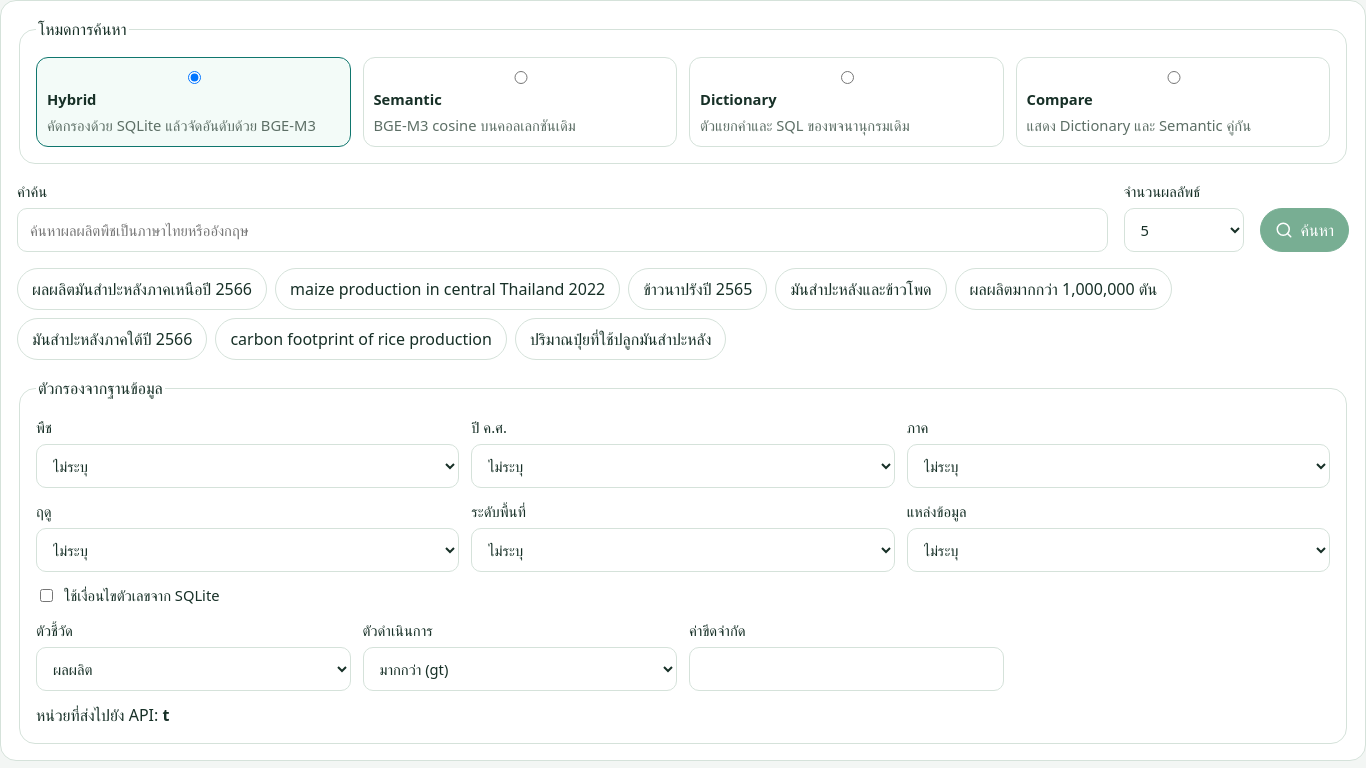
it: frontend › T12 warns for an unsupported measurement and shows no answer row
The width and height of the screenshot is (1366, 768).
In the field labelled "คำค้น": (562, 230) 17,208 -> 1108,252, type "ปุ๋ย"
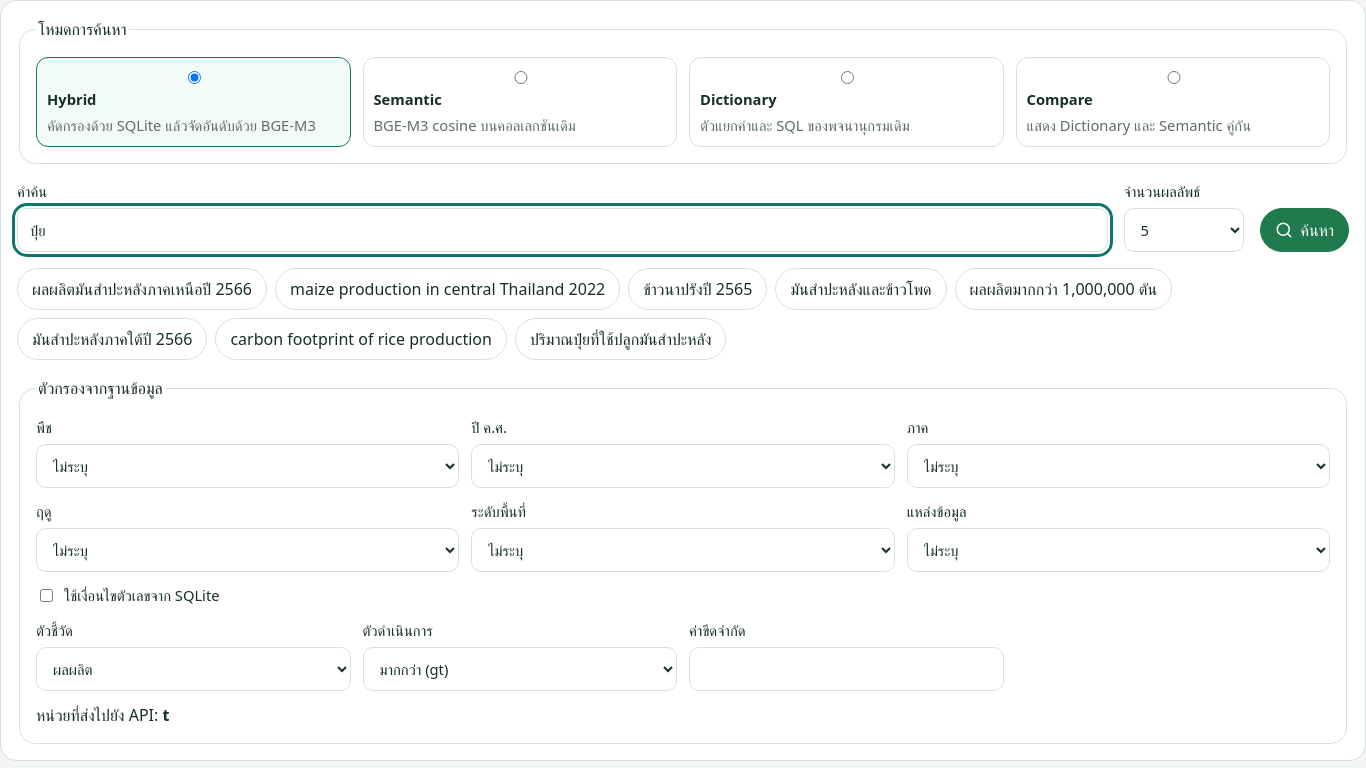
Click the button "ค้นหา": (1304, 230) 1260,208 -> 1349,252
(page scrolled)
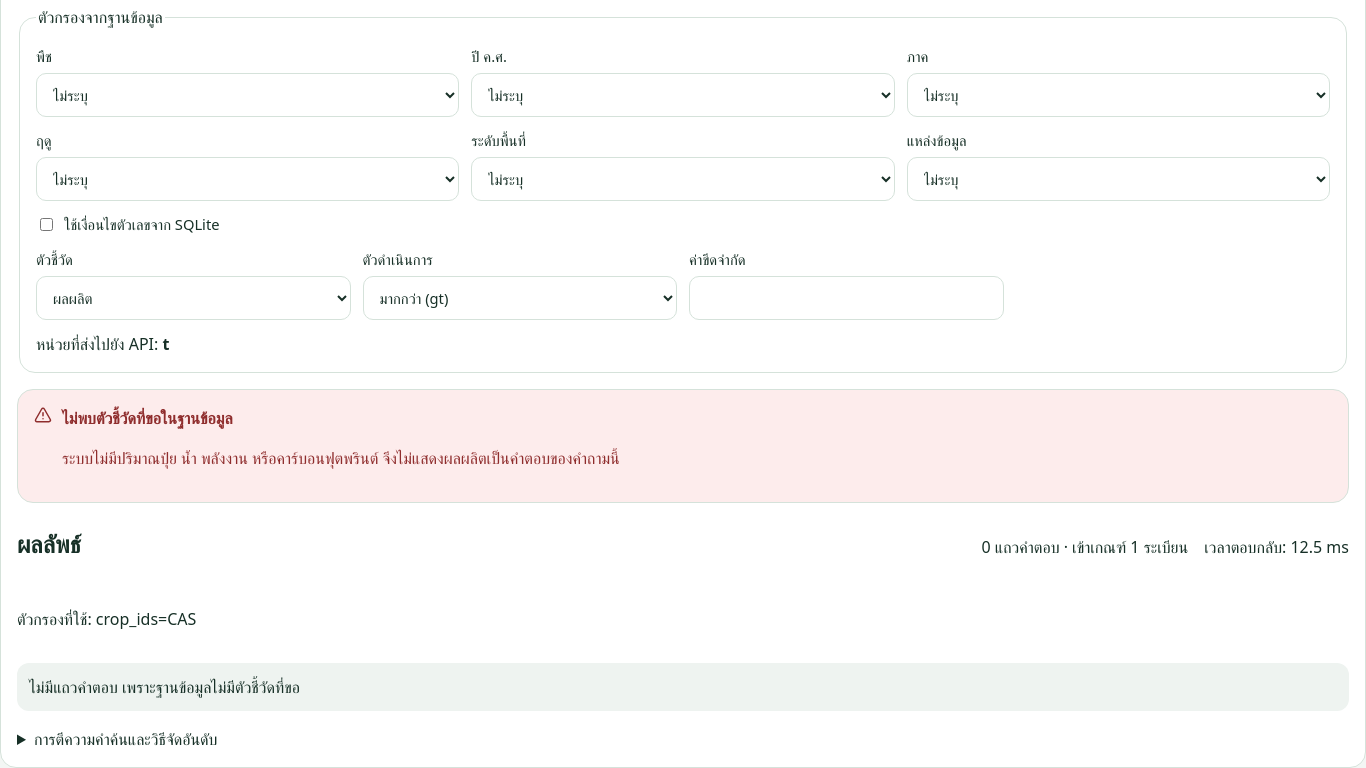
Expected: the text "ไม่พบตัวชี้วัดที่ขอในฐานข้อมูล" is shown, 62,407 -> 233,429
Expected: the text "ไม่มีแถวคำตอบ เพราะฐานข้อมูลไม่มีตัวชี้วัดที่ขอ" is shown, 17,663 -> 1349,711
